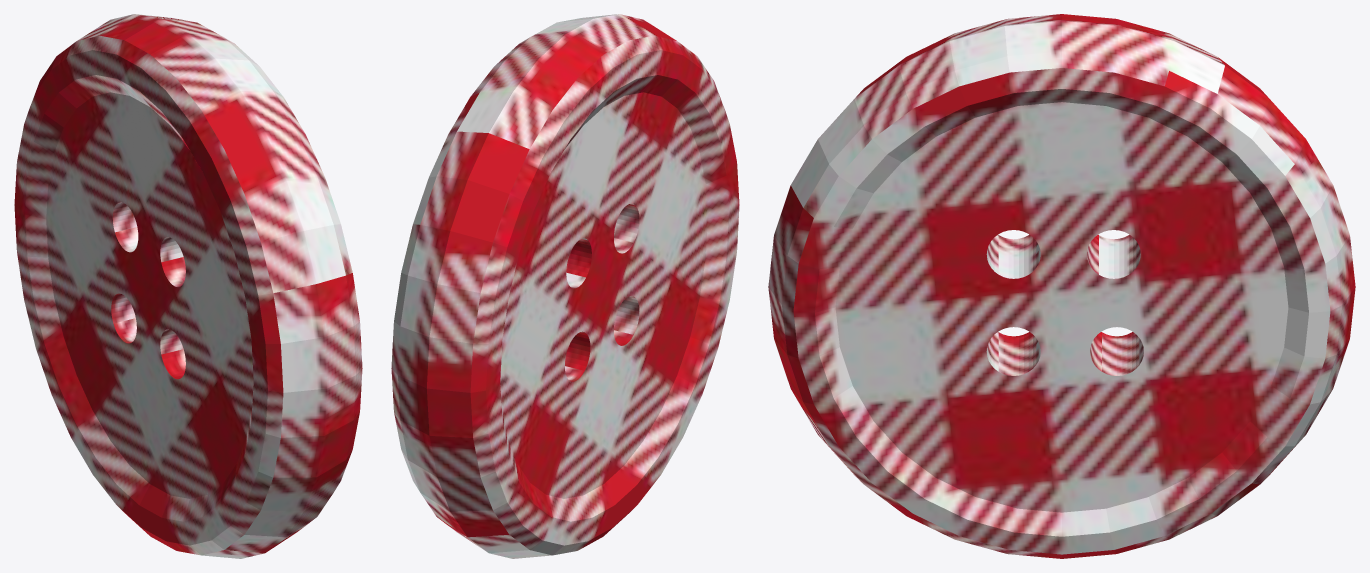
File: button.glb
The picture shows the model from 3 angles, left to right: view 1: azimuth 30°, elevation 25°; view 2: azimuth 150°, elevation 25°; view 3: azimuth 270°, elevation 25°; orthographic projection. The views are drawn at different scales.
Visible parts, largest first — view 1: Circle; view 2: Circle; view 3: Circle.
Part boxes in pixels (x1,y1,x2,y2): Circle: (14,14,362,558); Circle: (391,14,739,558); Circle: (768,14,1355,558).
Bounding box in the file's own units: 0.4281 × 2.1 × 2.1.
Materials: 1 (1 with a texture image).
